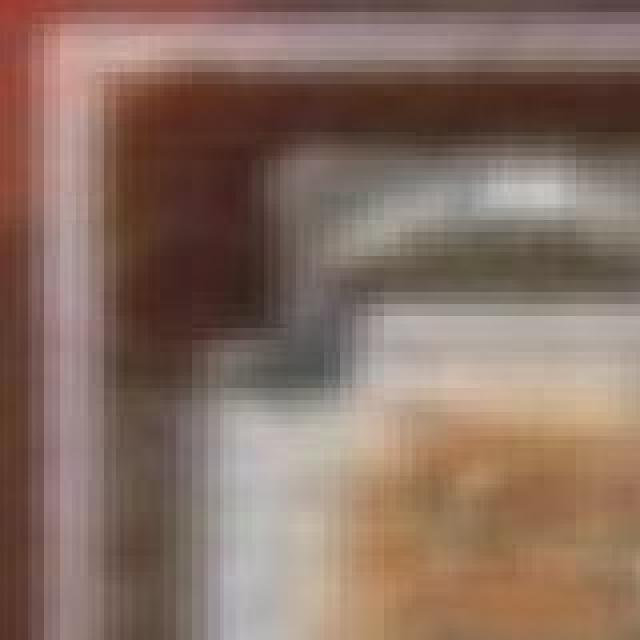switch: (48, 16, 640, 640)
